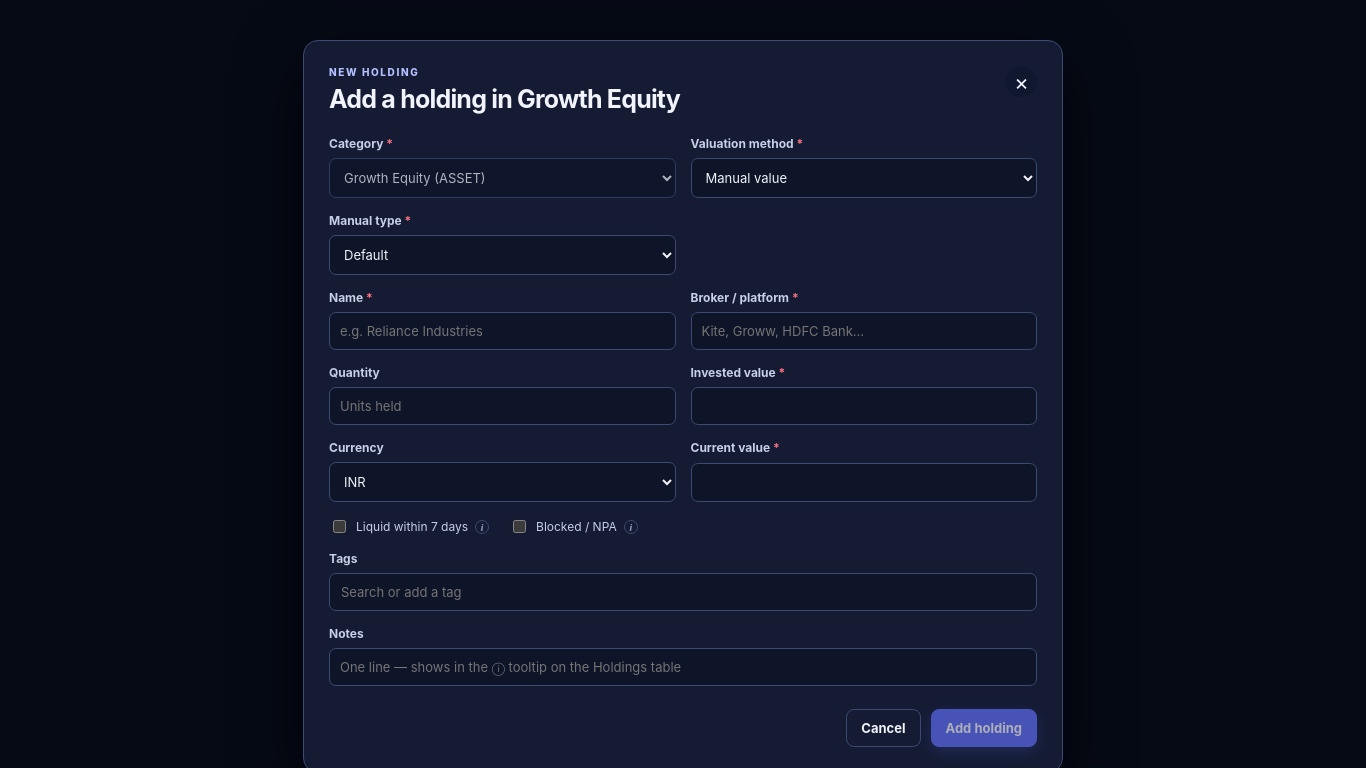
Scenario: HoldingModal — manual types › a provident fund without a balance blocks saving
Select "Provident fund" in the dropdown labelled "Manual type *" at x=502, y=255, box x1=329 y1=235 x2=676 y2=275
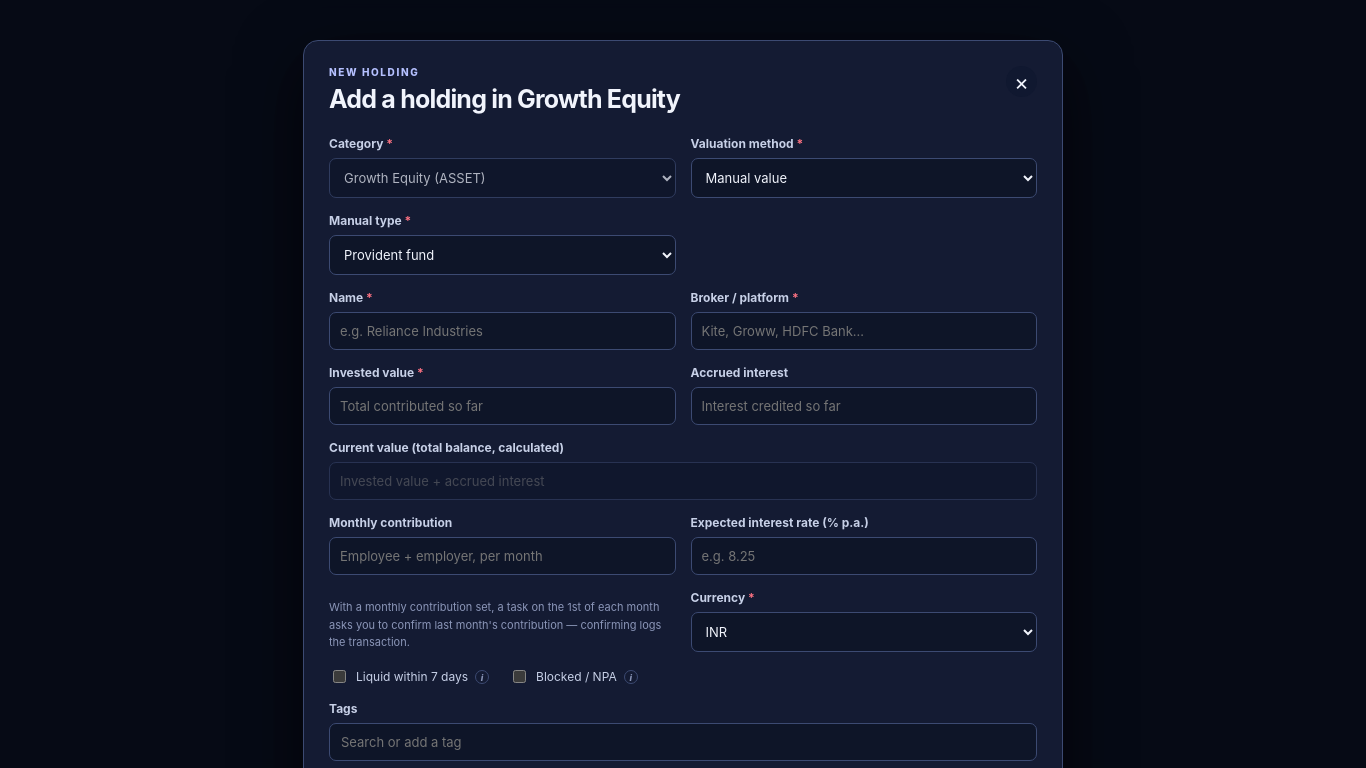
Type "EPF" into the field labelled "Name *" at x=502, y=331, box x1=329 y1=312 x2=676 y2=350
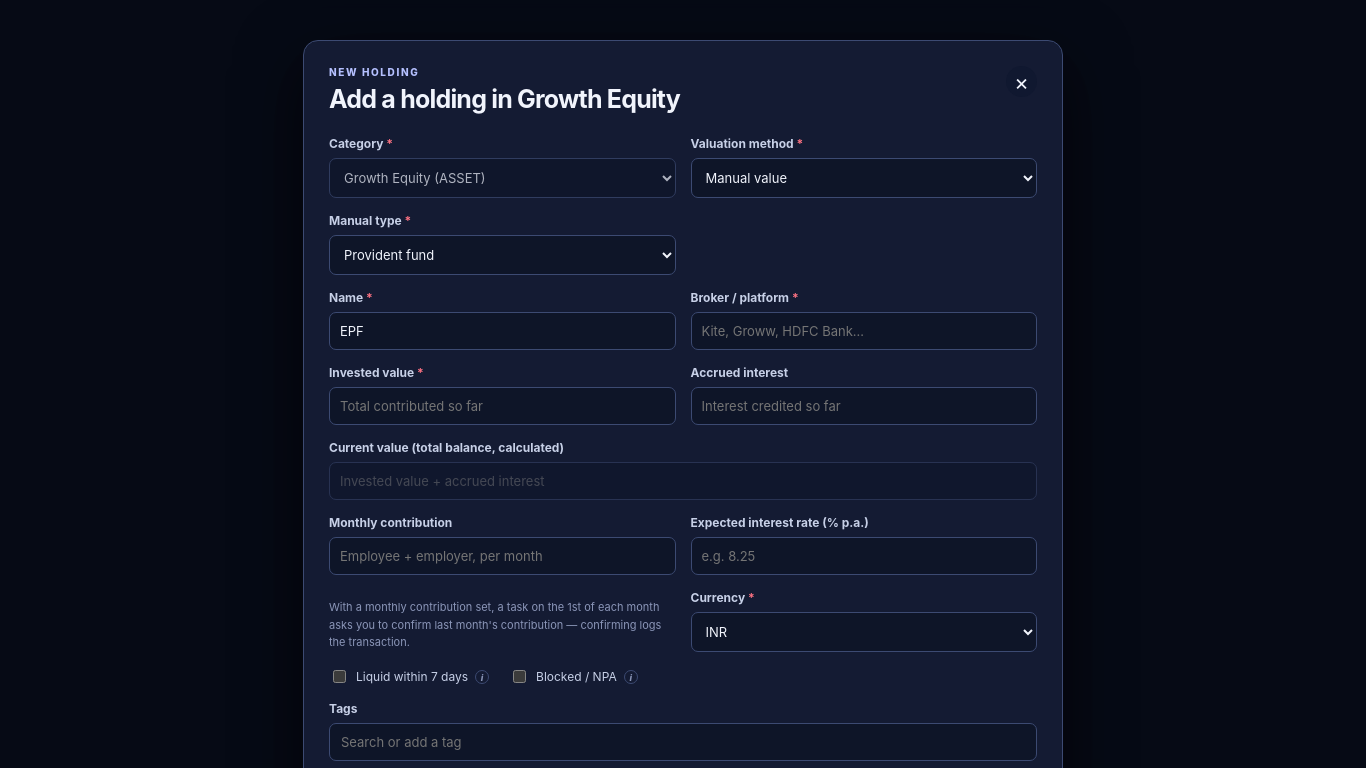
Type "Self" into the field labelled "Broker / platform *" at x=864, y=331, box x1=690 y1=312 x2=1037 y2=350
(page scrolled)
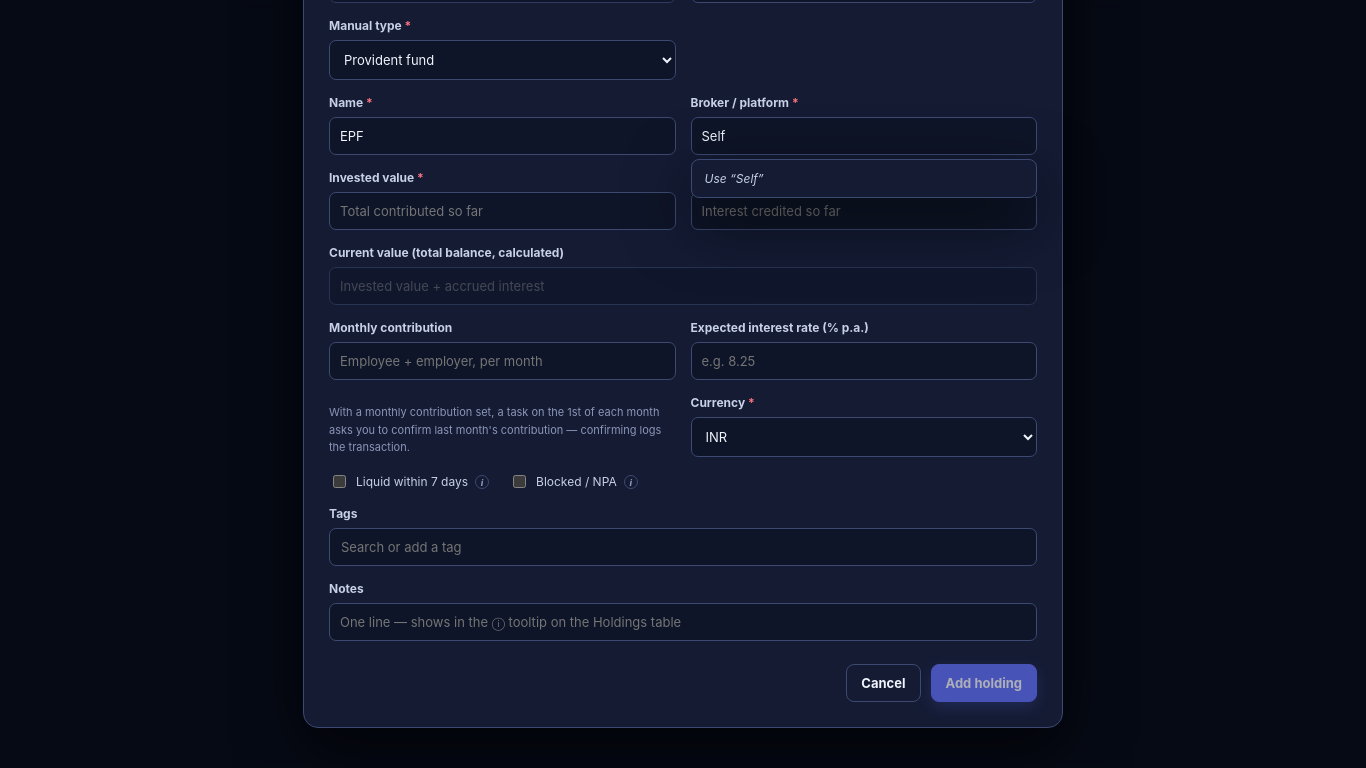
Result: the button "Add holding" is disabled at x1=930 y1=664 x2=1037 y2=702
